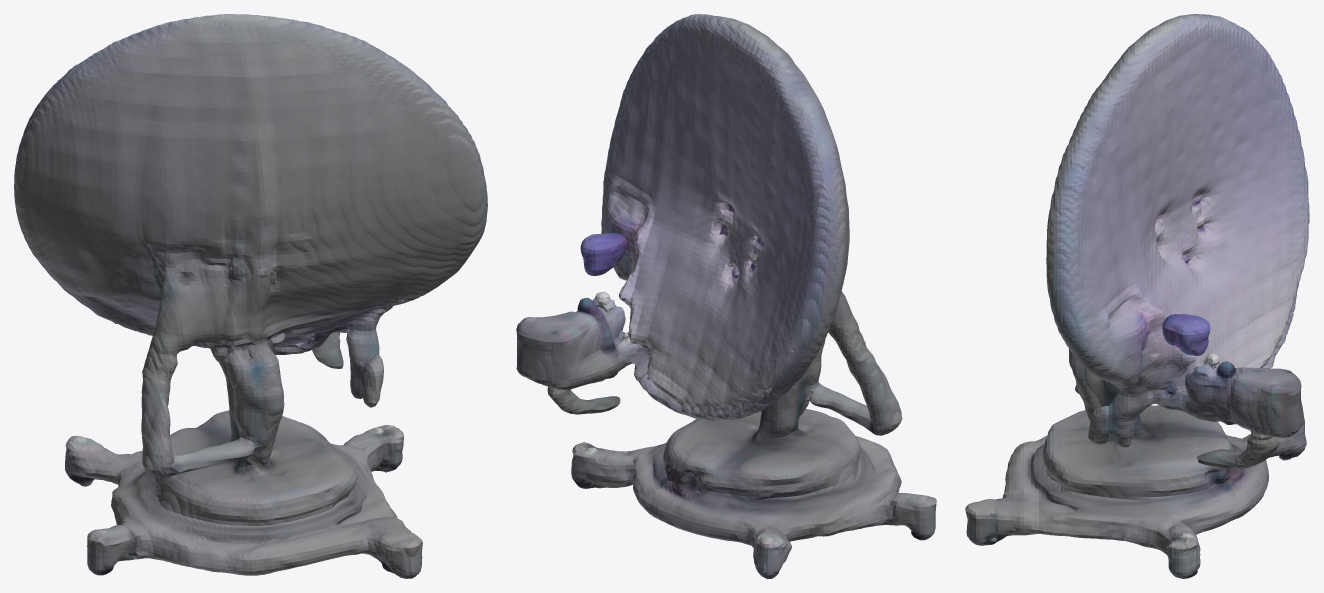
File: room-09-satellite-terminal.glb
3 renders of one model, left to right at view 1: azimuth 30°, elevation 25°; view 2: azimuth 150°, elevation 25°; view 3: azimuth 270°, elevation 25°, orthographic. The views are drawn at different scales.
Parts seen in each view (by area): view 1: world; view 2: world; view 3: world.
Boxes of the visible parts, x1=… form: world: x1=14, y1=14, x2=487, y2=578; world: x1=516, y1=14, x2=936, y2=578; world: x1=965, y1=14, x2=1309, y2=578.
Bounding box in the file's own units: 0.737 × 0.9737 × 0.6353.
